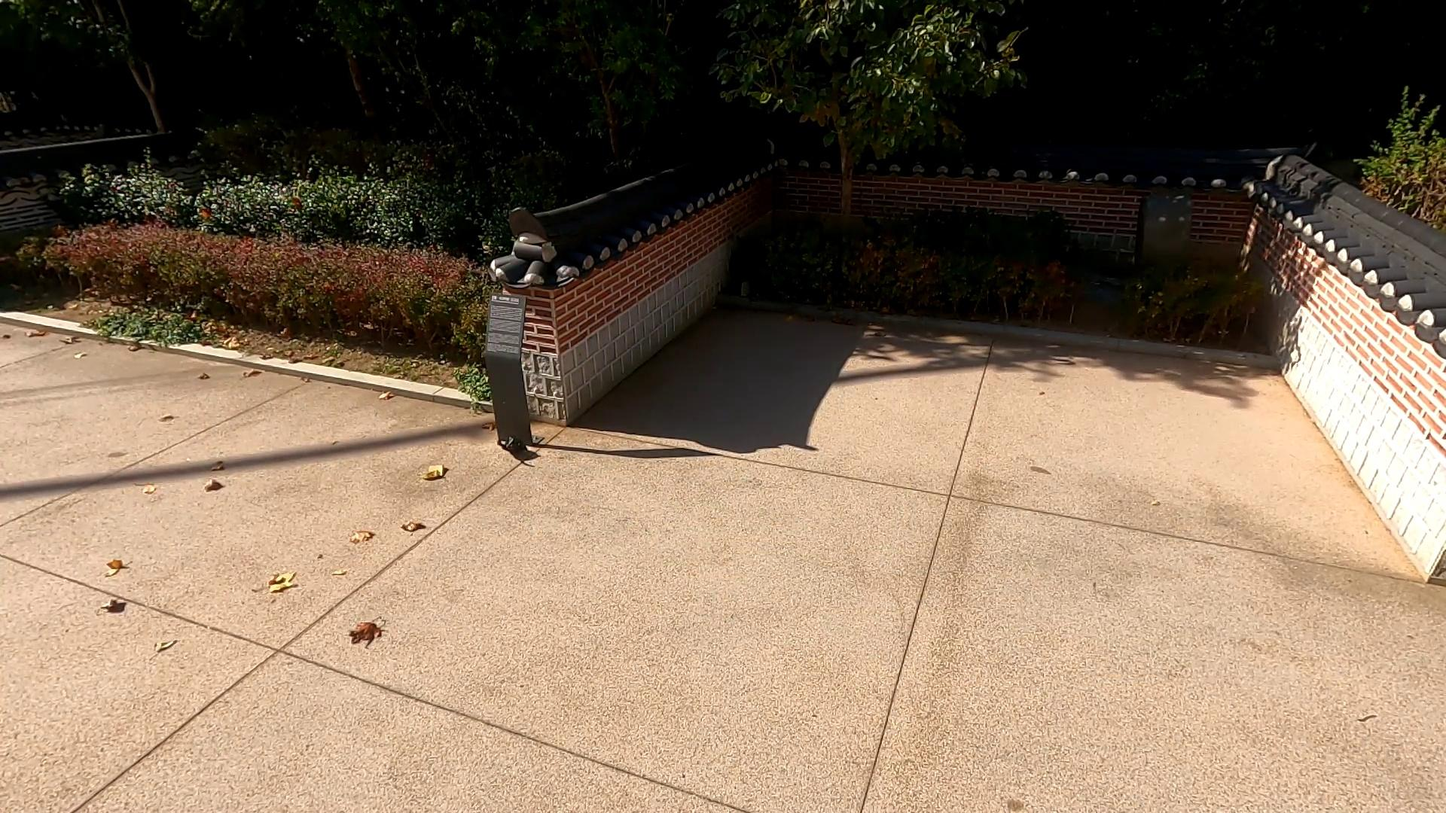trash: (500, 432, 528, 459)
